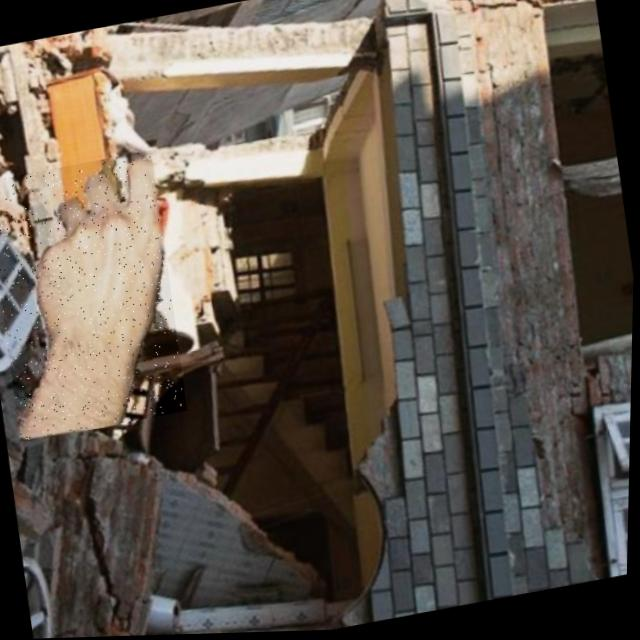Person in Rubble: (0, 150, 192, 443)
